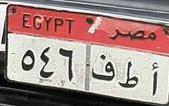4: (38, 45, 55, 81)
5: (18, 48, 37, 74)
6: (58, 47, 74, 82)
Taa: (117, 60, 139, 91)
alif: (147, 61, 161, 98)
faa: (90, 52, 116, 83)
